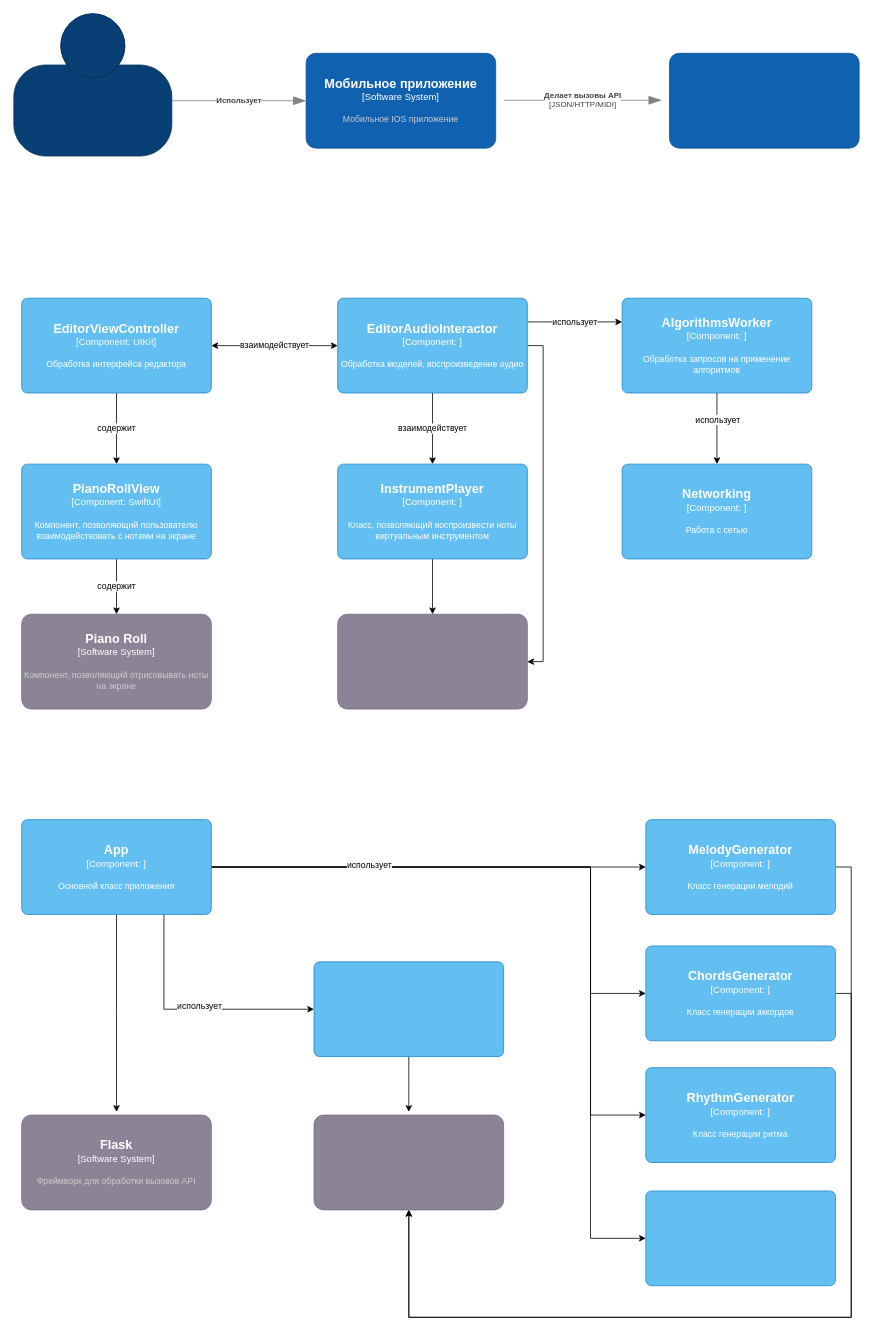
Some shapes in this 873 by 1337 pixel diagram are drawn without their labels. Here are the shapes that lost their labels. From the top down, the centre of each, then its label:
At (x=92, y=84): "Пользователь [Person]".
At (x=764, y=100): "Бэкенд [Software System] Серверная часть приложения".
At (x=432, y=661): "AudioKit [Software System] Фреймворк для воспроизведения аудио".
At (x=408, y=1009): "MIDIParser [Component: ] Класс обработки MIDI-формата".
At (x=408, y=1162): "Music21 [Software System] Фреймворк для работы с музыкой".
At (x=740, y=1238): "DrumsGenerator [Component: ] Класс генерации барабанов".
